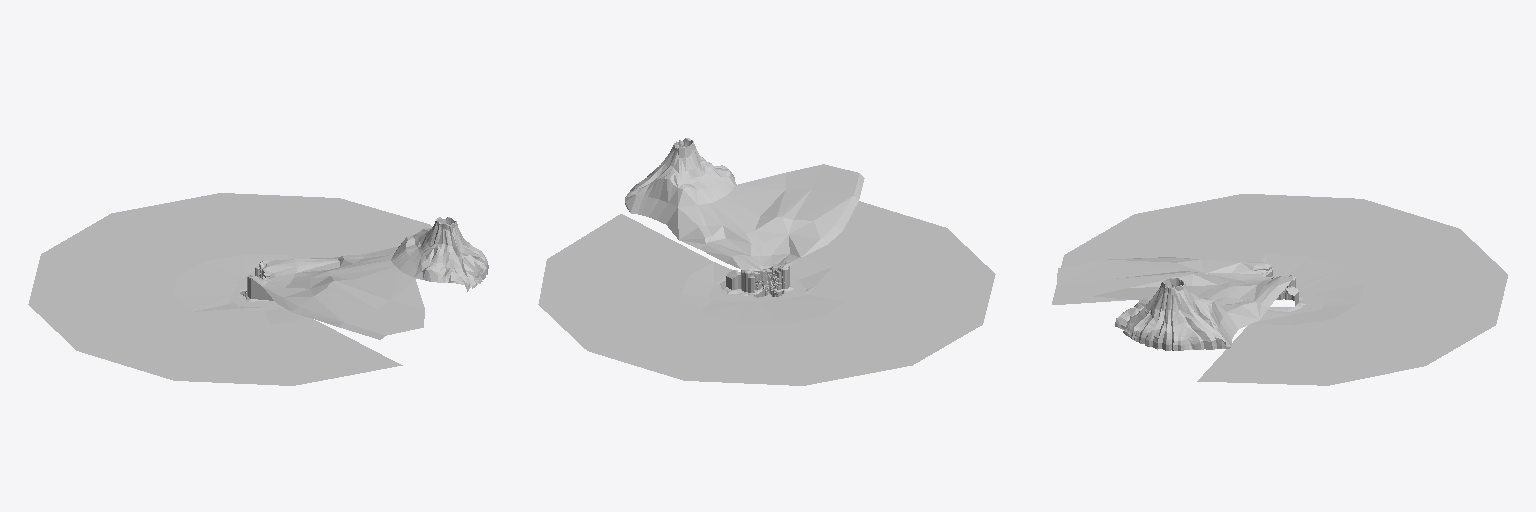
Rendered from nokibay.obj.
The picture shows the model from 3 angles: view 1: azimuth 30°, elevation 25°; view 2: azimuth 150°, elevation 25°; view 3: azimuth 270°, elevation 25°; orthographic projection.
Parts seen in each view (by area): view 1: m20, m26, m24; view 2: m20, m26, m24, m19; view 3: m20, m26, m24.
Boxes of the visible parts, x1=… form: m20: x1=28, y1=193, x2=431, y2=385; m26: x1=248, y1=246, x2=424, y2=339; m24: x1=391, y1=217, x2=488, y2=291; m20: x1=538, y1=201, x2=995, y2=385; m26: x1=625, y1=164, x2=864, y2=289; m24: x1=625, y1=138, x2=736, y2=206; m19: x1=726, y1=269, x2=788, y2=297; m20: x1=1052, y1=194, x2=1507, y2=385; m26: x1=1057, y1=257, x2=1298, y2=348; m24: x1=1115, y1=277, x2=1226, y2=350.
Size of the model in its own units: 3440 by 696 by 3457.